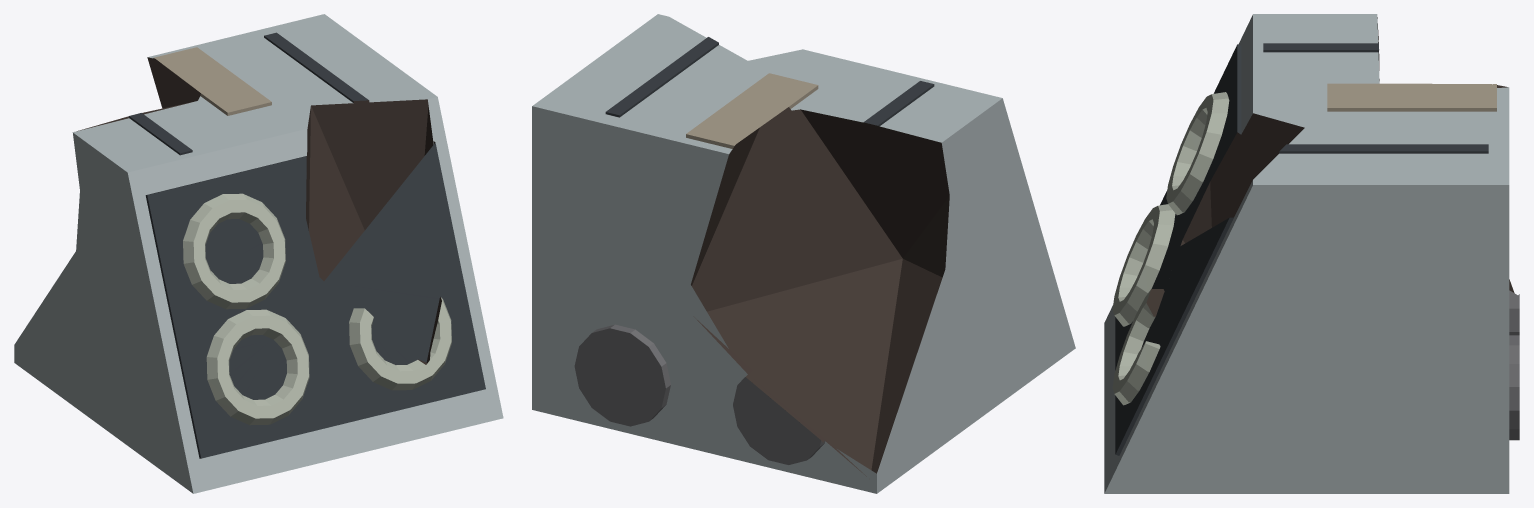
The model's file is vge_d_largeelectricthruster.obj.
3 views of the same model, side by side, from view 1: azimuth 30°, elevation 25°; view 2: azimuth 150°, elevation 25°; view 3: azimuth 270°, elevation 25° (orthographic). The views are drawn at different scales.
Parts seen in each view (by area): view 1: vge_d_largeelectricthruster; view 2: vge_d_largeelectricthruster; view 3: vge_d_largeelectricthruster.
Part boxes in pixels (x1,y1,x2,y2): vge_d_largeelectricthruster: (14, 14, 503, 493); vge_d_largeelectricthruster: (532, 14, 1075, 493); vge_d_largeelectricthruster: (1104, 14, 1519, 493).
Size of the model in its own units: 1.96 by 1.67 by 2.01.
